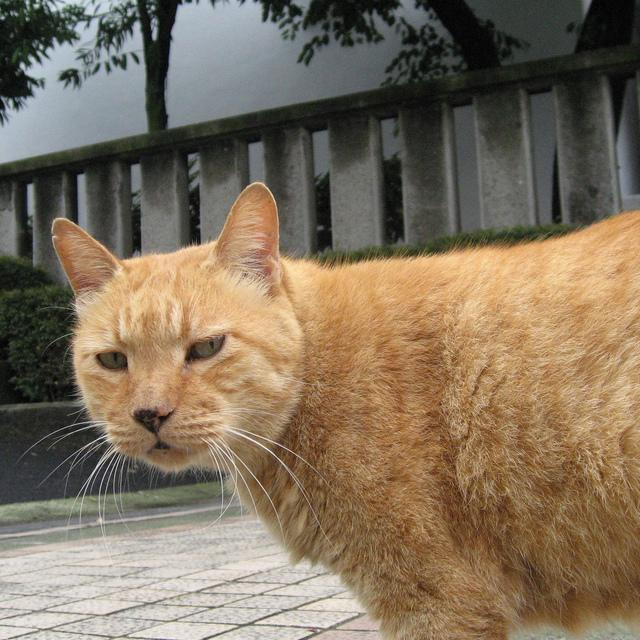animals: (55, 183, 277, 432)
